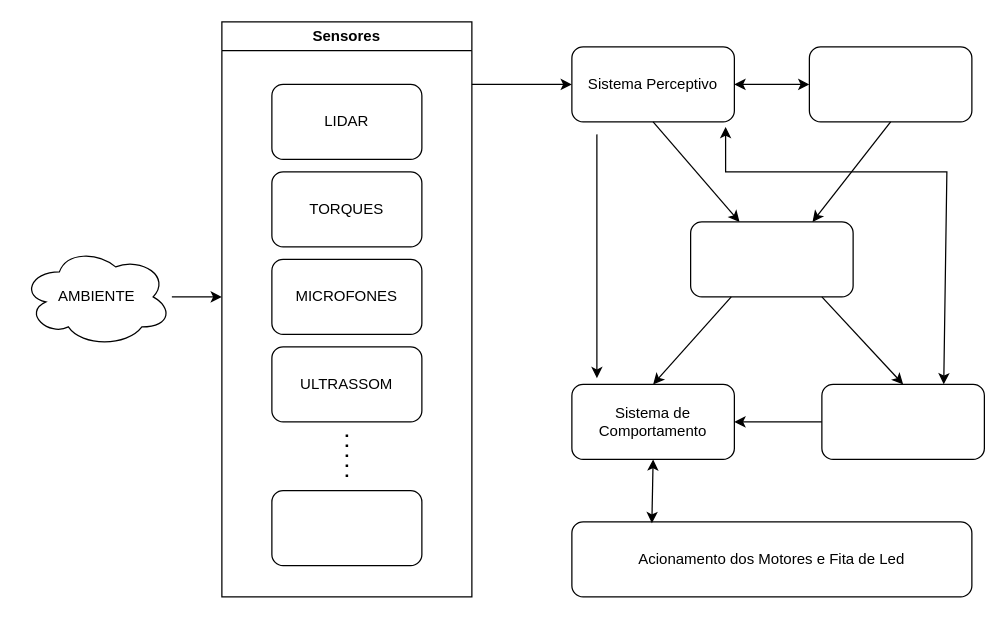
This 1006x619 diagram has some shape labels left out. Each missing label, with the centre of its shape:
Estado Interno: (771,259)
Objetivos e Motivações: (890,84)
Sistema de Aprendizado: (902,421)
Wi-Fi: (346,527)
